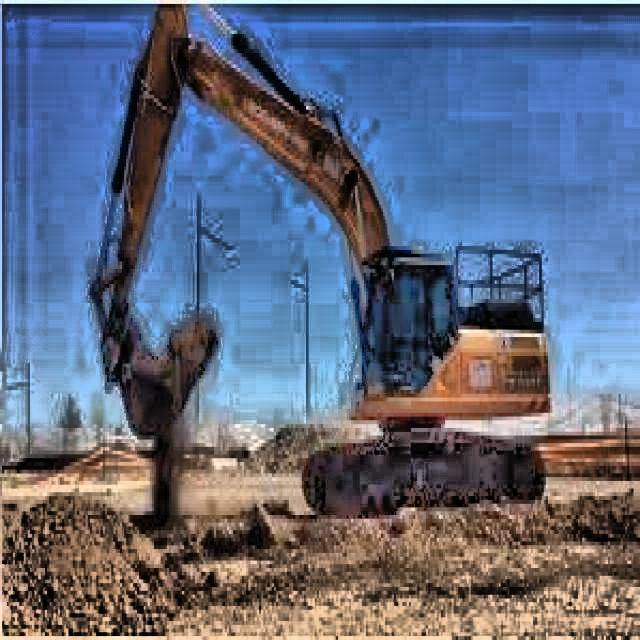bull_dozer/loader/grader: (87, 0, 557, 517)
person: (402, 278, 423, 334)
